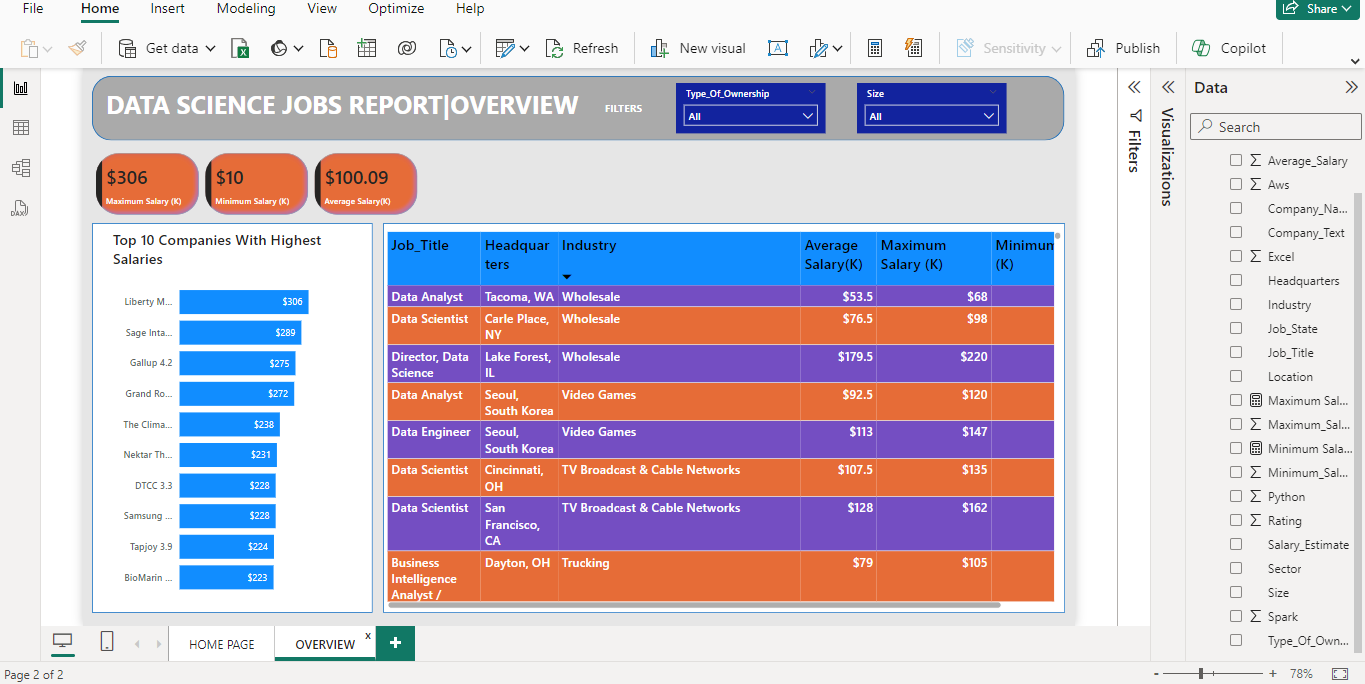

The dashboard page shown, as its layout file describes it:
{"tool":"powerbi","page":{"name":"OVERVIEW","canvas":[1280,720],"ordinal":1},"visuals":[{"type":"shape","box":[12.1,10.6,1254.5,83.3],"z":0},{"type":"textbox","box":[24.1,19.8,644.9,65.2],"z":1000},{"type":"shape","box":[12.1,200,362.1,503],"z":2000},{"type":"cardVisual","fields":{"Data":["Data_Science_Jobss.Maximum Salary (K)","Data_Science_Jobss.Minimum Salary (K)","Data_Science_Jobss.Average Salary"]},"box":[12.1,104.5,425.8,90.9],"z":3000},{"type":"barChart","title":"Top 10 Companies With Highest Salaries","fields":{"Category":["Data_Science_Jobss.Company_Name"],"Y":["Data_Science_Jobss.Maximum Salary (K)"]},"box":[33.3,207.6,313.6,486.4],"z":4000},{"type":"shape","box":[386.9,199.8,880.2,503.1],"z":5000},{"type":"tableEx","fields":{"Values":["Data_Science_Jobss.Job_Title","Data_Science_Jobss.Headquarters","Data_Science_Jobss.Industry","Data_Science_Jobss.Average Salary(K)","Data_Science_Jobss.Maximum Salary (K)","Data_Science_Jobss.Minimum Salary (K)"]},"box":[386.9,206.9,880.2,496.1],"z":5001},{"type":"slicer","fields":{"Values":["Data_Science_Jobss.Type_Of_Ownership"]},"box":[765.4,19.8,192.8,65.2],"z":5002},{"type":"slicer","fields":{"Values":["Data_Science_Jobss.Size"]},"box":[999.2,19.8,192.8,65.2],"z":5003},{"type":"textbox","box":[669,36.9,75.1,31.2],"z":5004}]}

Visuals, with their boxes on the page's 1280x720 design canvas (x1, y1, x2, y2). These are canvas units, not pixel positions in the 1365x684 screenshot, which may show the page scaled, cropped or inside an application window:
shape: 12 11 1267 94
textbox: 24 20 669 85
shape: 12 200 374 703
cardVisual - Data_Science_Jobss.Maximum Salary (K) x Data_Science_Jobss.Minimum Salary (K): 12 104 438 195
"Top 10 Companies With Highest Salaries" barChart: 33 208 347 694
shape: 387 200 1267 703
tableEx - Data_Science_Jobss.Job_Title x Data_Science_Jobss.Headquarters: 387 207 1267 703
slicer - Data_Science_Jobss.Type_Of_Ownership: 765 20 958 85
slicer - Data_Science_Jobss.Size: 999 20 1192 85
textbox: 669 37 744 68
